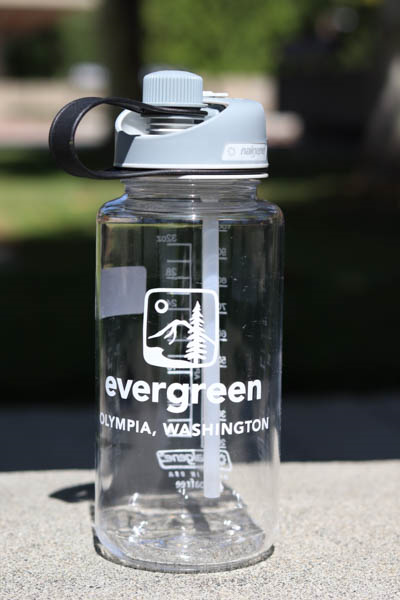bottle: (47, 67, 286, 572)
